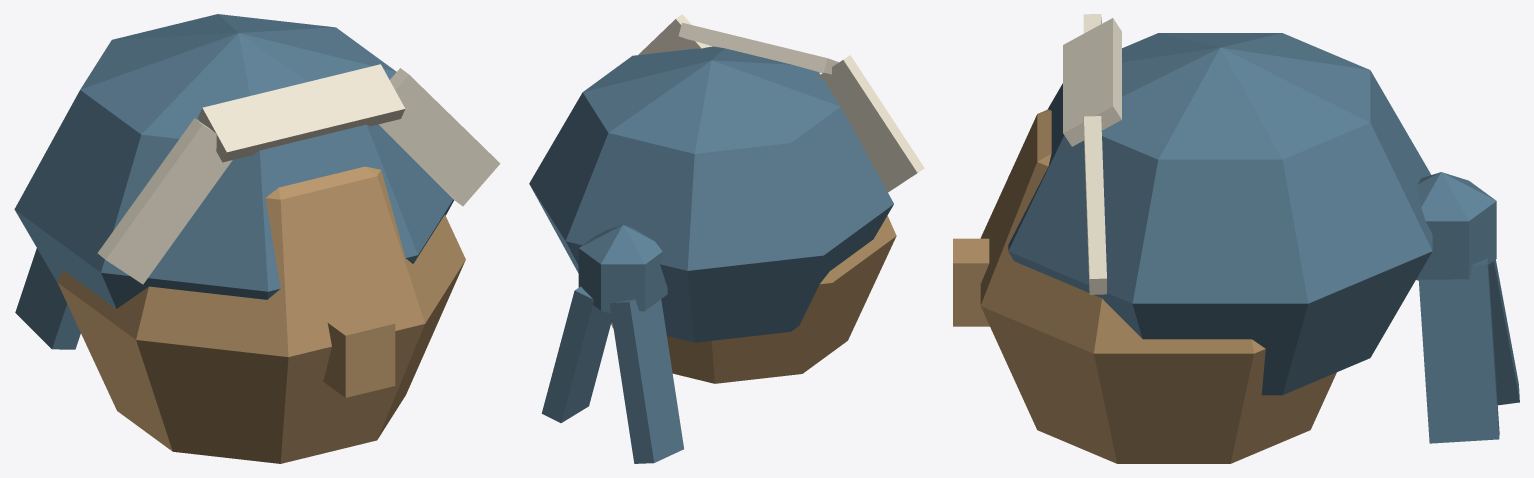
Rendered from villager-head-kerchief.glb.
The picture shows the model from 3 angles, left to right: view 1: azimuth 30°, elevation 25°; view 2: azimuth 150°, elevation 25°; view 3: azimuth 270°, elevation 25°; orthographic projection. The views are drawn at different scales.
Parts seen in each view (by area): view 1: head; view 2: head; view 3: head.
Part boxes in pixels (x1,y1,x2,y2): head: (14, 14, 500, 463); head: (529, 14, 924, 463); head: (953, 14, 1519, 463).
Size of the model in its own units: 0.7964 by 0.786 by 0.9752.
Materials: 1 (1 with a texture image).
